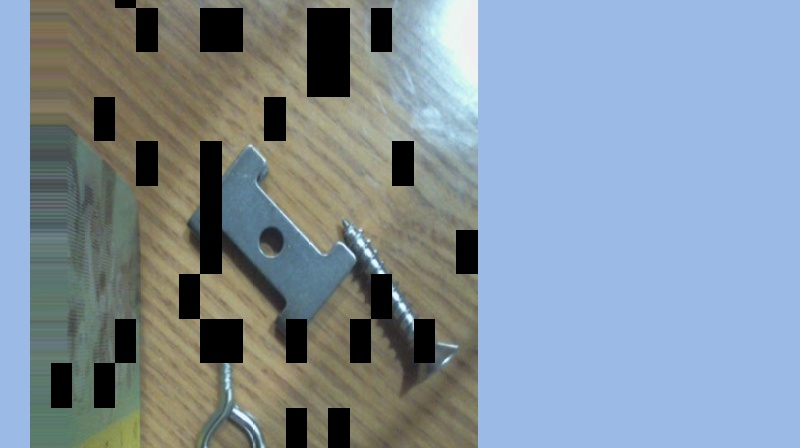O001: (190, 317, 268, 447)
O002: (183, 140, 359, 349)
S001: (334, 215, 459, 390)
